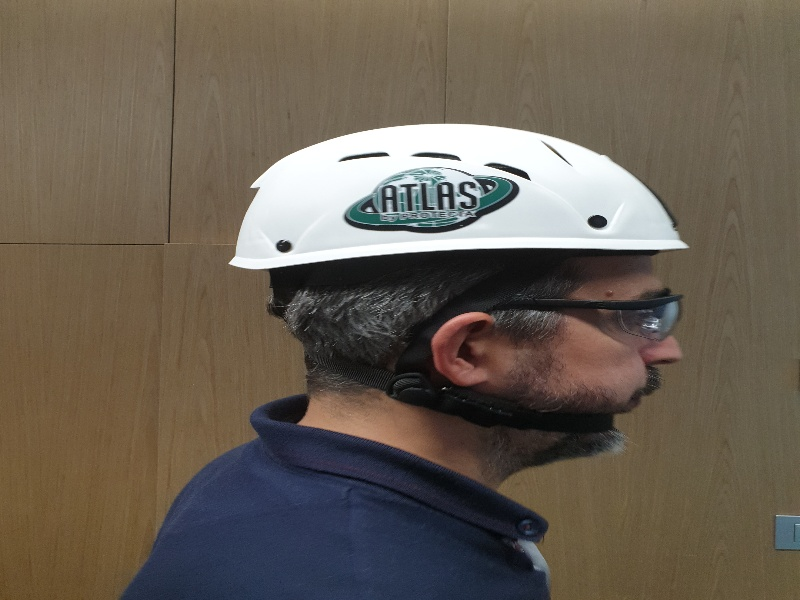Baret: (227, 124, 692, 271)
Gozluk: (442, 291, 682, 344)
